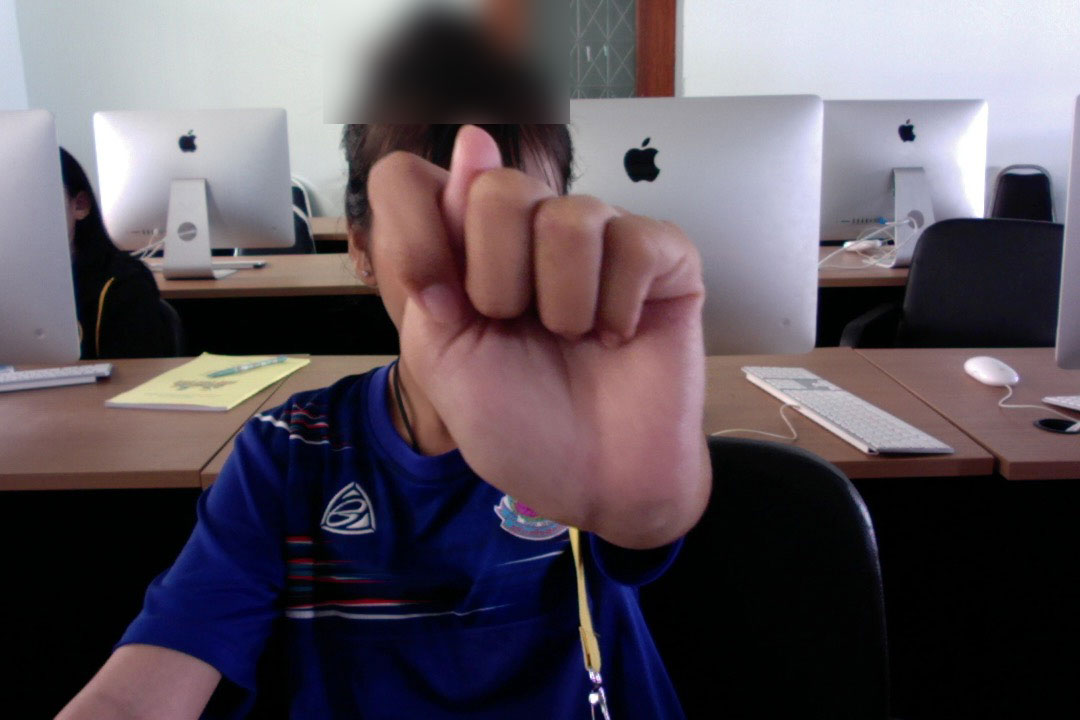tor: (353, 117, 727, 556)
